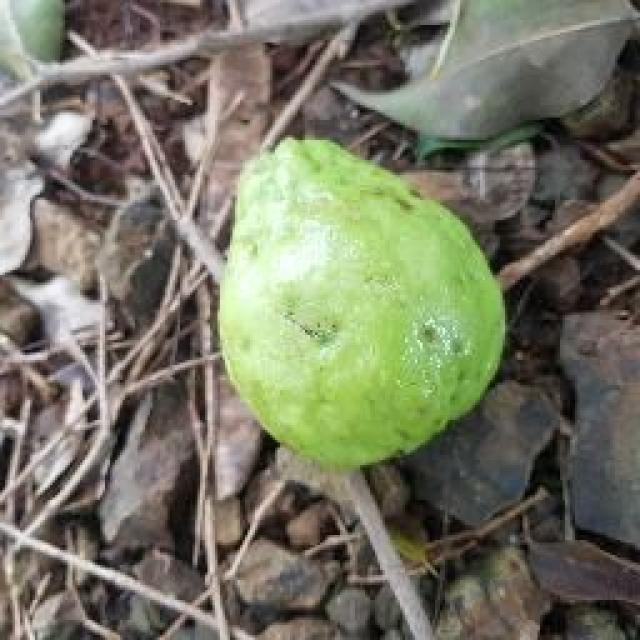Good_Guava: (218, 138, 508, 475)
